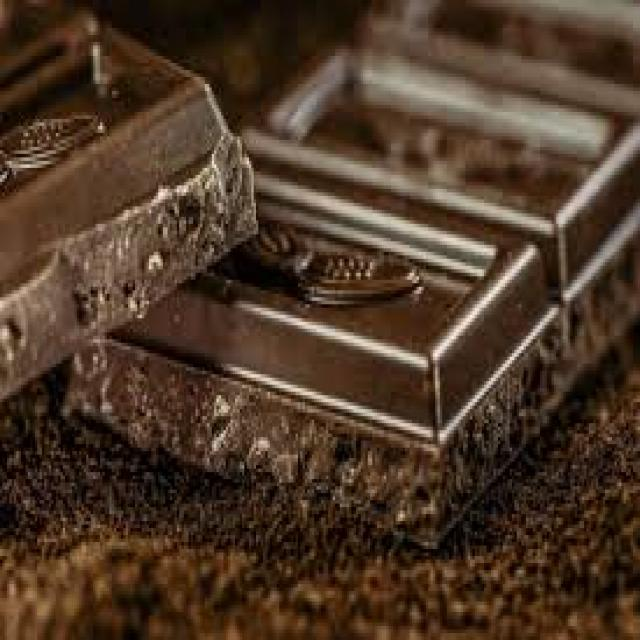chocolate: (0, 0, 640, 550)
